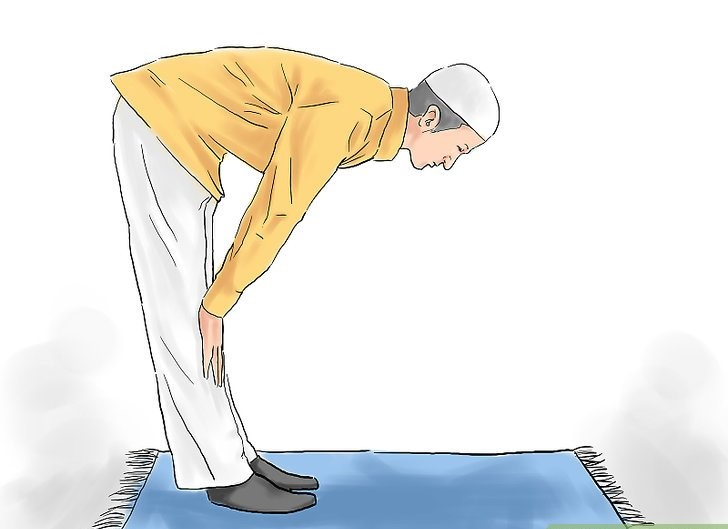ruku: (54, 44, 574, 517)
